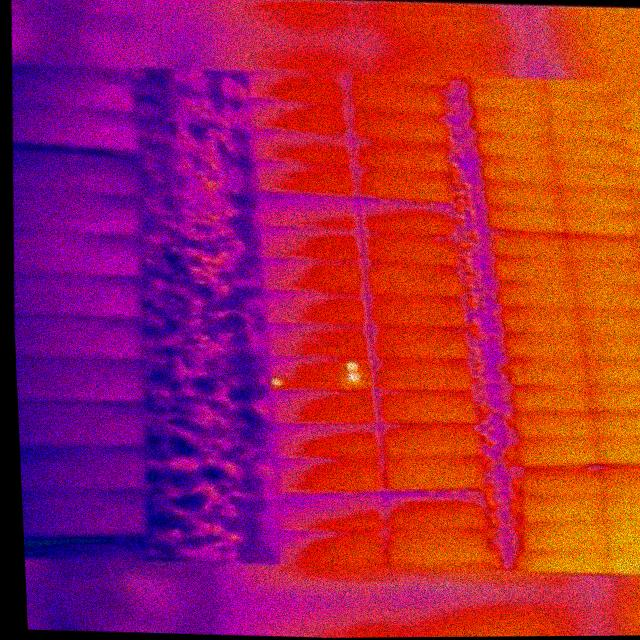Hotspot: (262, 351, 378, 398)
